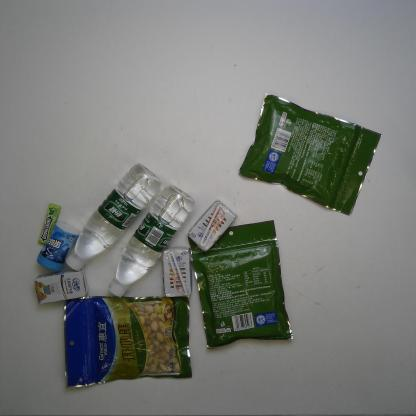Dried Fruit: (237, 90, 383, 218), (188, 219, 294, 350), (64, 294, 193, 388)
Drink: (64, 162, 163, 270), (106, 184, 194, 300)
Gum: (36, 220, 78, 272), (37, 202, 62, 244)
Milk: (187, 198, 237, 254), (32, 267, 92, 306), (161, 243, 195, 299)
